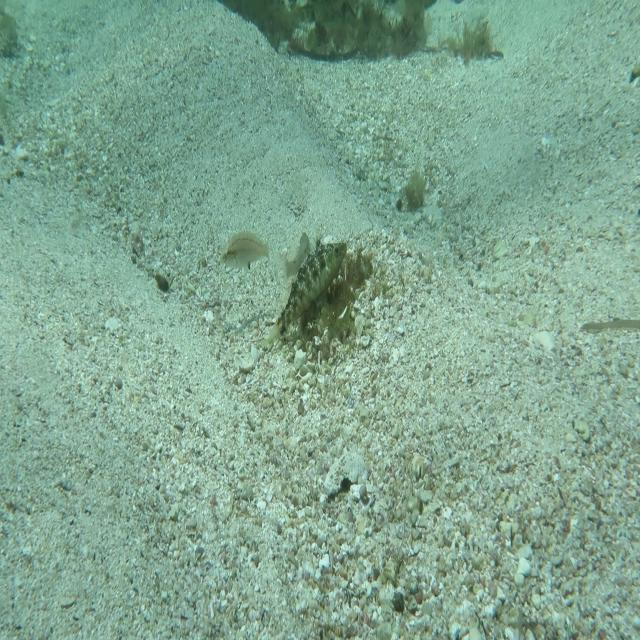ROLL: (265, 230, 351, 352)
female: (275, 226, 313, 286)
nest: (277, 246, 374, 366)
other_fish: (217, 225, 274, 279)
